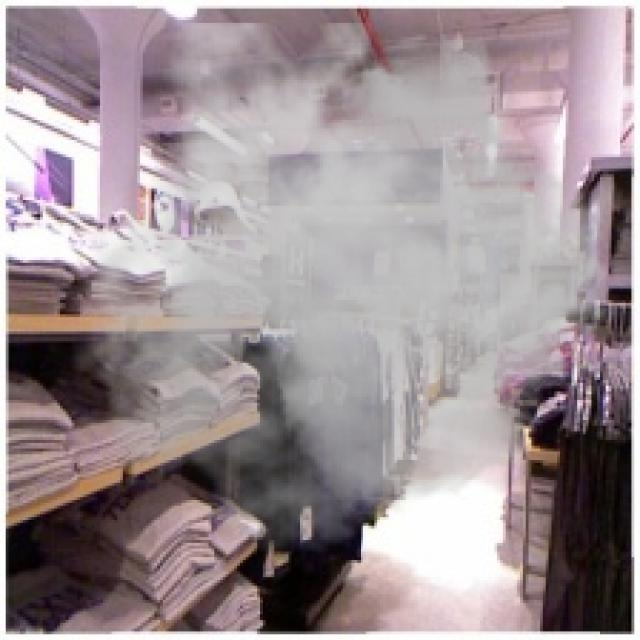smoke: (69, 23, 626, 554)
